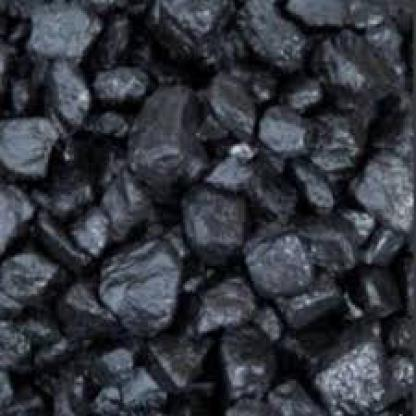Sedimentary_coal: (96, 227, 179, 331), (124, 80, 198, 192), (312, 333, 392, 414), (244, 226, 322, 309), (348, 152, 414, 235), (186, 70, 248, 146), (5, 112, 63, 176), (48, 52, 91, 137), (0, 246, 61, 299)
